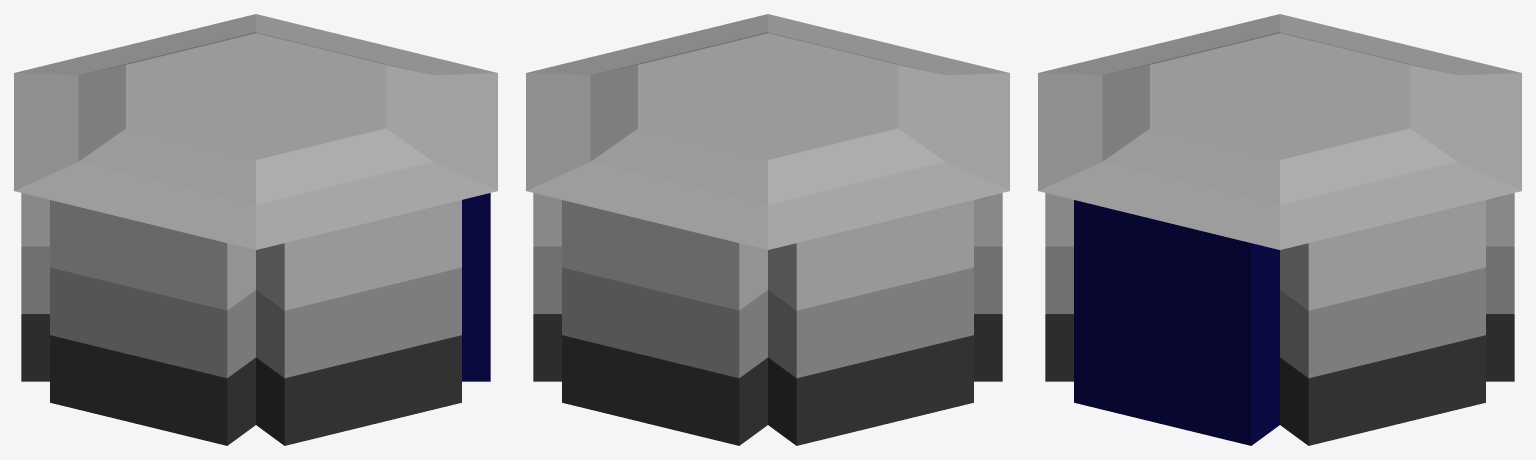
Rendered from rough layout 1_28_2019.fbx.
3 views of the same model, side by side, from view 1: azimuth 30°, elevation 25°; view 2: azimuth 150°, elevation 25°; view 3: azimuth 270°, elevation 25° (orthographic).
Parts seen in each view (by area): view 1: building_interior; view 2: building_interior; view 3: building_interior.
Part boxes in pixels (bbox=[...]): building_interior: bbox=[14, 14, 497, 445]; building_interior: bbox=[526, 14, 1009, 445]; building_interior: bbox=[1038, 14, 1521, 445].
Bounding box in the file's own units: 272 × 130 × 235.
